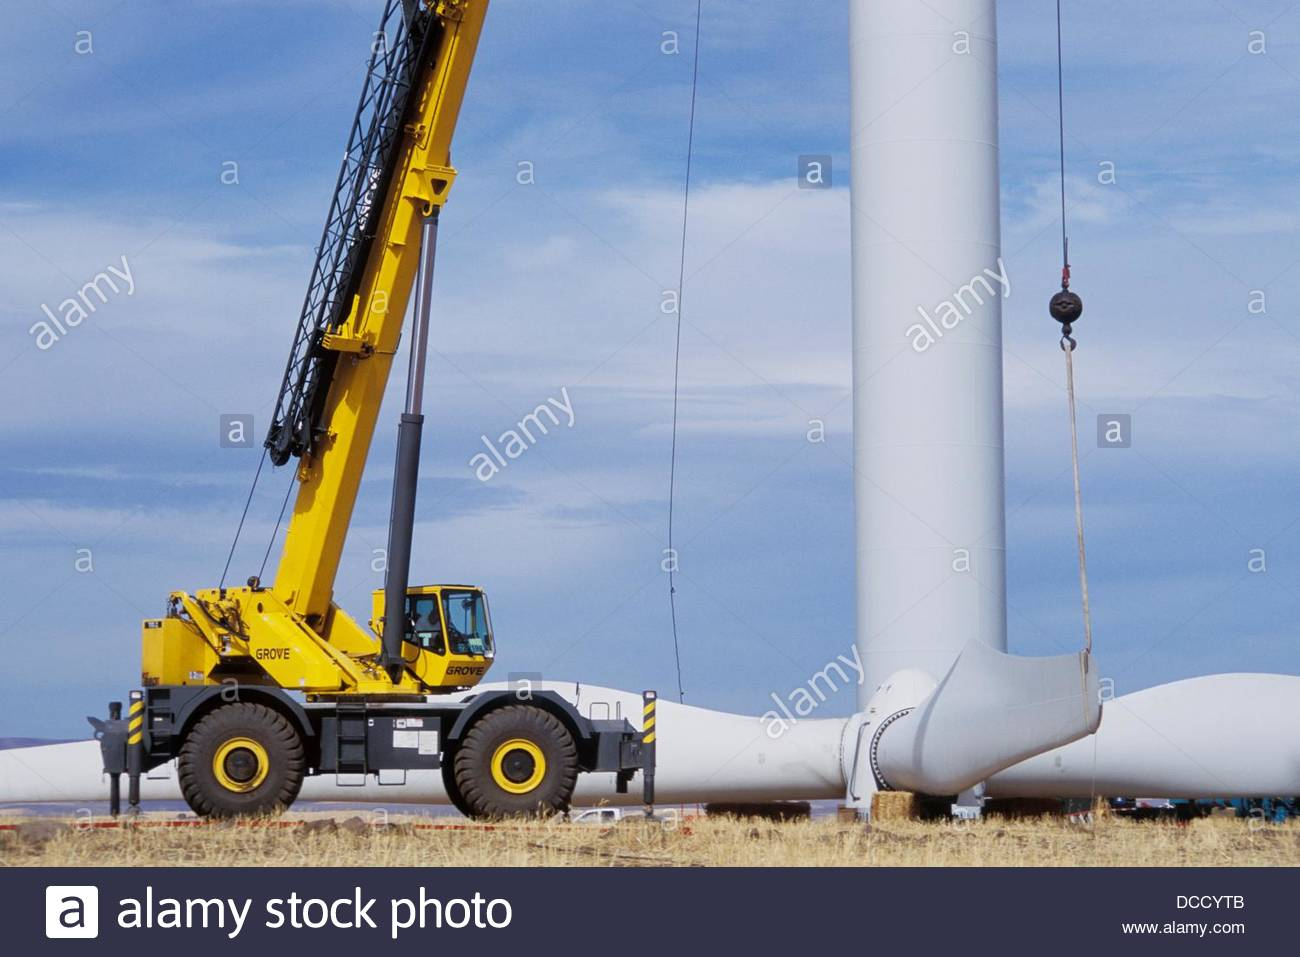crane: (138, 1, 663, 825)
